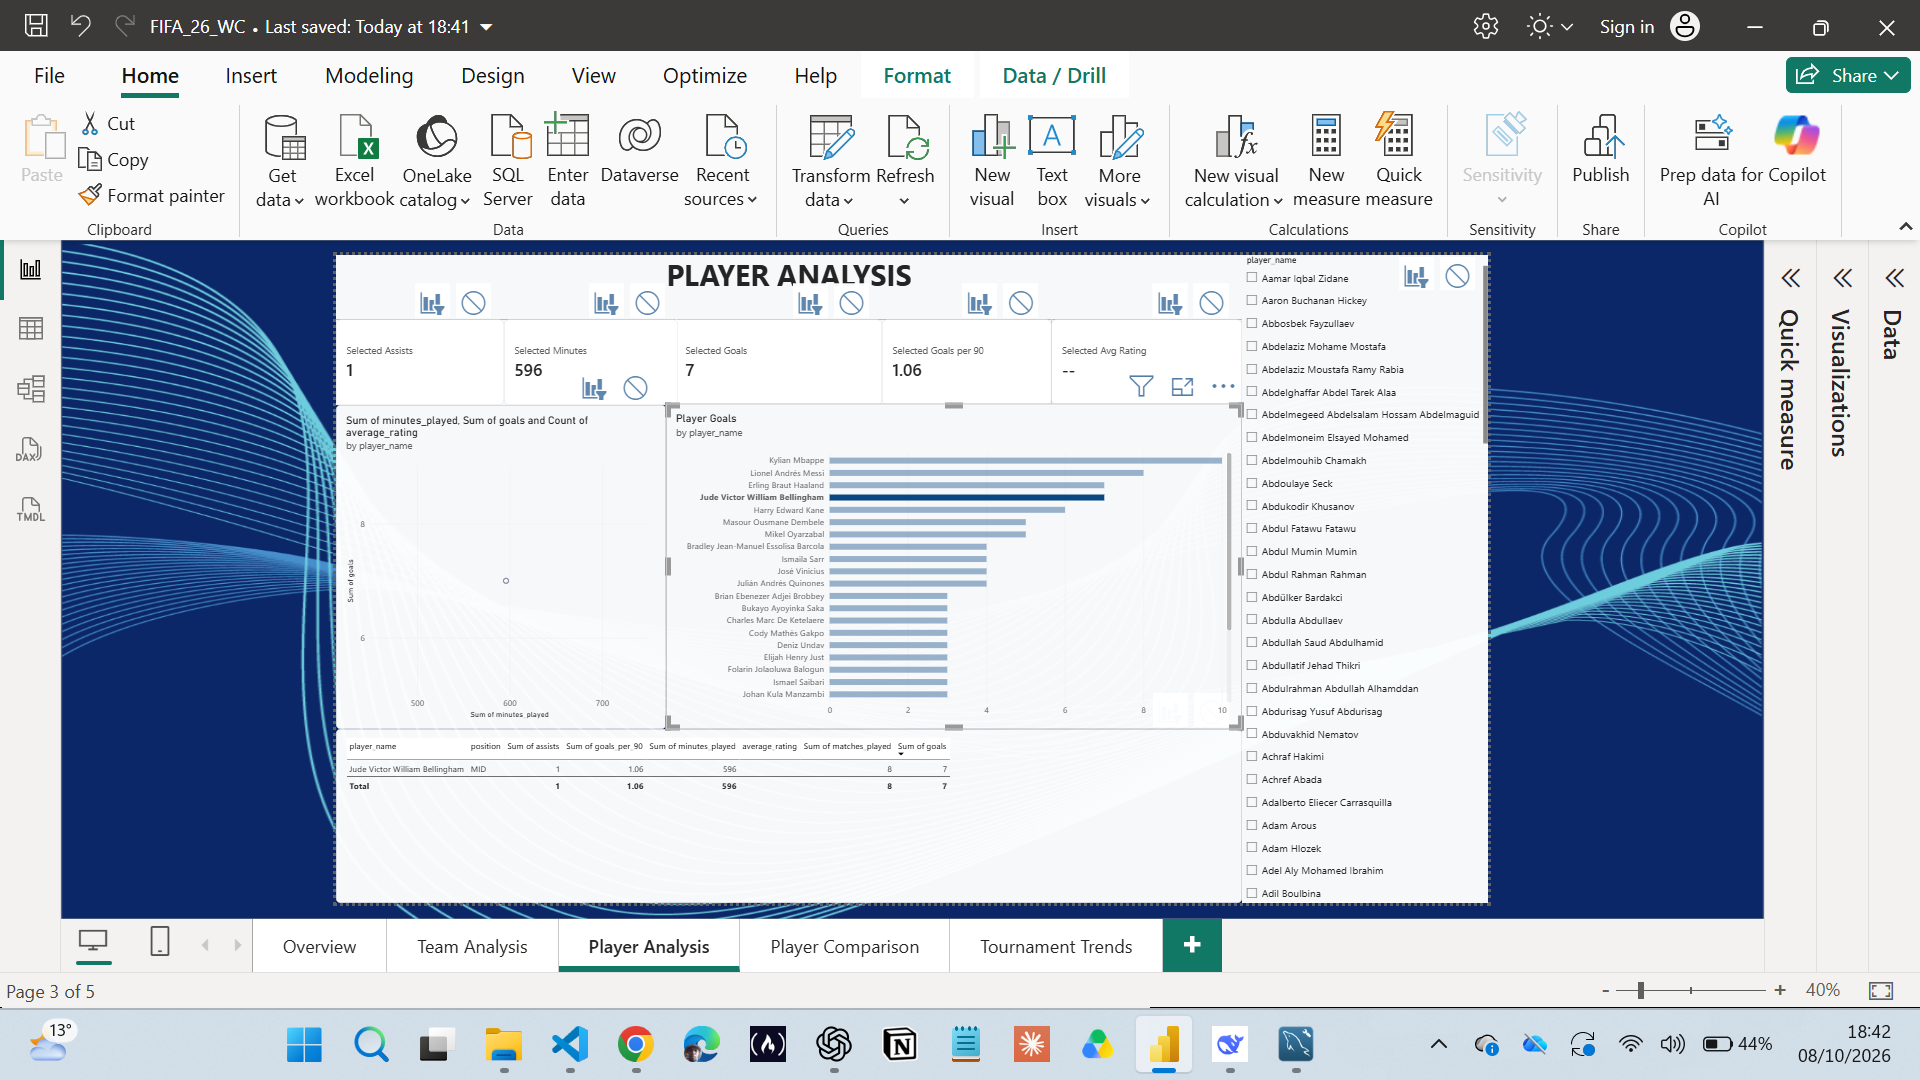

Layout of this report page (visuals, bound fields, positions):
{"tool":"powerbi","page":{"name":"Player Analysis","canvas":[1920,1080],"ordinal":2},"visuals":[{"type":"textbox","box":[0,0,1510,107.5],"z":0},{"type":"slicer","fields":{"Values":["players.player_name"]},"box":[1510,0,410,1080],"z":1000},{"type":"cardVisual","fields":{"Data":["player_stats.Selected Assists"]},"box":[0,107.5,280,142.5],"z":2000},{"type":"cardVisual","fields":{"Data":["player_stats.Selected Goals"]},"box":[565,107.5,345,142.5],"z":3000},{"type":"cardVisual","fields":{"Data":["player_stats.Selected Minutes"]},"box":[280,107.5,290,142.5],"z":4000},{"type":"cardVisual","fields":{"Data":["player_stats.Selected Goals per 90"]},"box":[910,107.5,282.5,142.5],"z":6000},{"type":"clusteredBarChart","title":"Top 15 Tournament Scorers","fields":{"Category":["players.player_name"],"Y":["matches.Player Goals"]},"box":[550,247.5,960,542.5],"z":7000},{"type":"scatterChart","title":"Minutes vs Goals (Size=Avg Rating)","fields":{"Series":["player_stats.player_name"],"Size":["CountNonNull(player_stats.average_rating)"],"X":["Sum(player_stats.minutes_played)"],"Y":["Sum(player_stats.goals)"]},"box":[0,250,550,540],"z":8000},{"type":"tableEx","title":"Player Performance Stats","fields":{"Values":["players.player_name","players.position","Sum(player_stats.assists)","Sum(player_stats.goals_per_90)","Sum(player_stats.minutes_played)","player_stats.average_rating","Sum(player_stats.matches_played)","Sum(player_stats.goals)"]},"box":[0,790,1510,290],"z":9000},{"type":"cardVisual","fields":{"Data":["player_stats.Selected Avg Rating"]},"box":[1192.5,107.5,317.5,142.5],"z":9001}]}

Visuals, with their boxes on the page's 1920x1080 design canvas (x1, y1, x2, y2). These are canvas units, not pixel positions in the 1920x1080 screenshot, which may show the page scaled, cropped or inside an application window:
textbox: BBox(0, 0, 1510, 108)
slicer - players.player_name: BBox(1510, 0, 1920, 1080)
cardVisual - player_stats.Selected Assists: BBox(0, 108, 280, 250)
cardVisual - player_stats.Selected Goals: BBox(565, 108, 910, 250)
cardVisual - player_stats.Selected Minutes: BBox(280, 108, 570, 250)
cardVisual - player_stats.Selected Goals per 90: BBox(910, 108, 1192, 250)
"Top 15 Tournament Scorers" clusteredBarChart: BBox(550, 248, 1510, 790)
"Minutes vs Goals (Size=Avg Rating)" scatterChart: BBox(0, 250, 550, 790)
"Player Performance Stats" tableEx: BBox(0, 790, 1510, 1080)
cardVisual - player_stats.Selected Avg Rating: BBox(1192, 108, 1510, 250)
